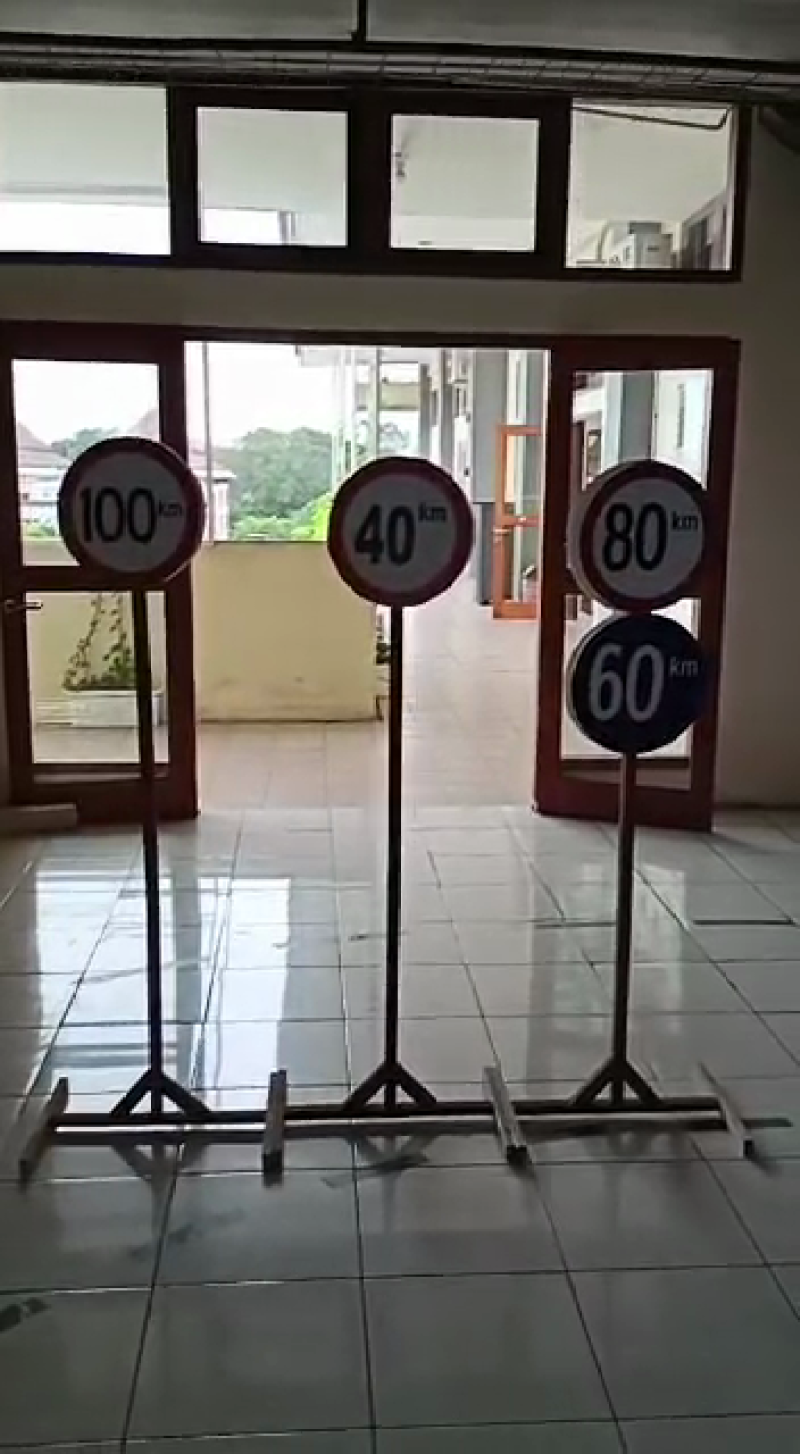batas maksimal 100kmperjam: (48, 424, 209, 594)
batas maksimal 40kmperjam: (313, 451, 489, 618)
batas maksimal 80kmperjam minimal 60kmperjam: (581, 457, 718, 774)
